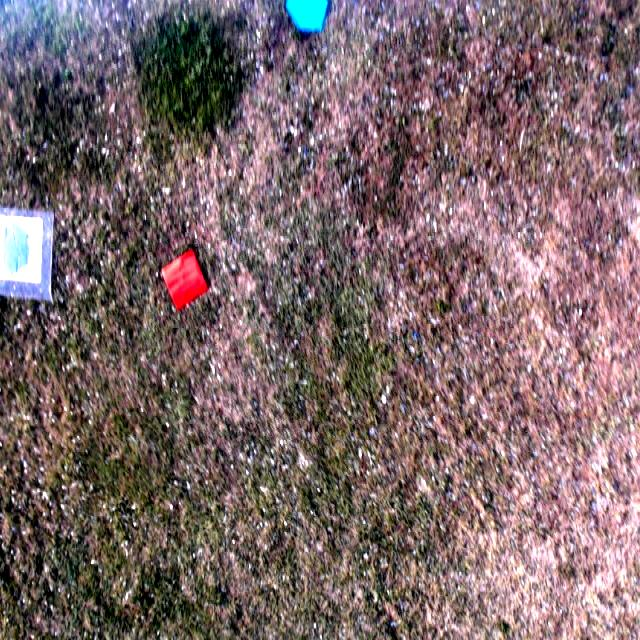blue_hexagon: (0, 219, 31, 280)
red_square: (160, 250, 208, 313)
